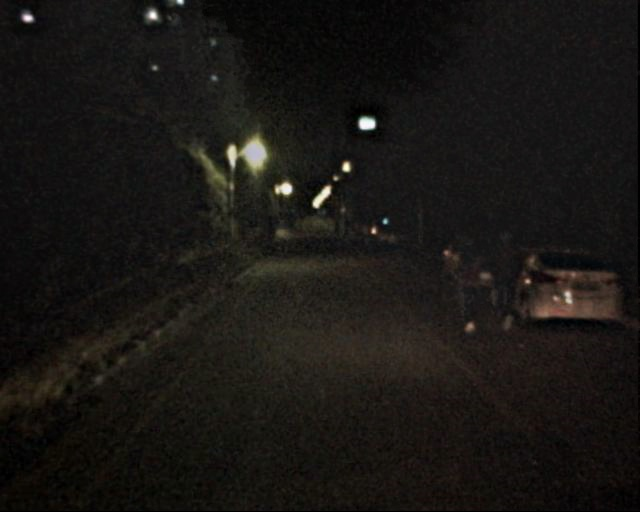person: (484, 223, 529, 333), (450, 237, 490, 335), (274, 219, 291, 254), (329, 219, 352, 243), (360, 220, 375, 252)
